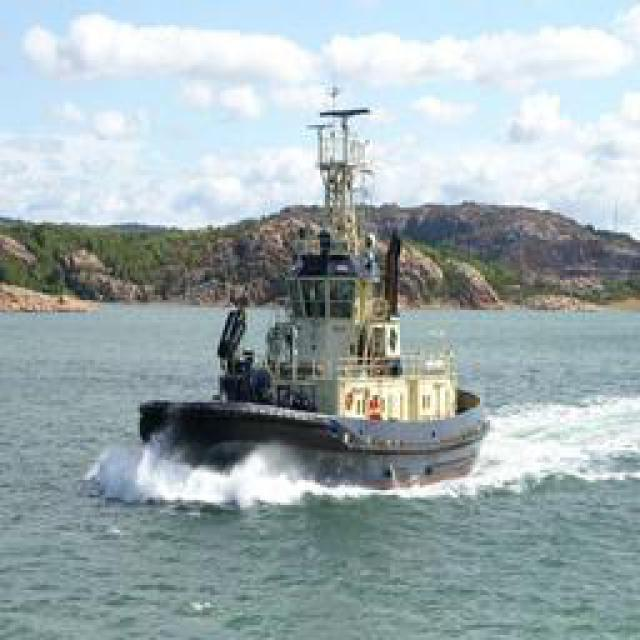Ship: (111, 113, 500, 501)
